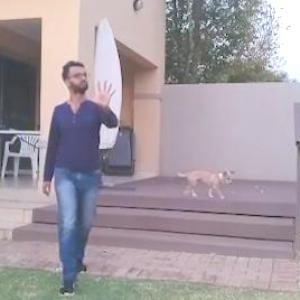follow_hand: (88, 74, 120, 112)
